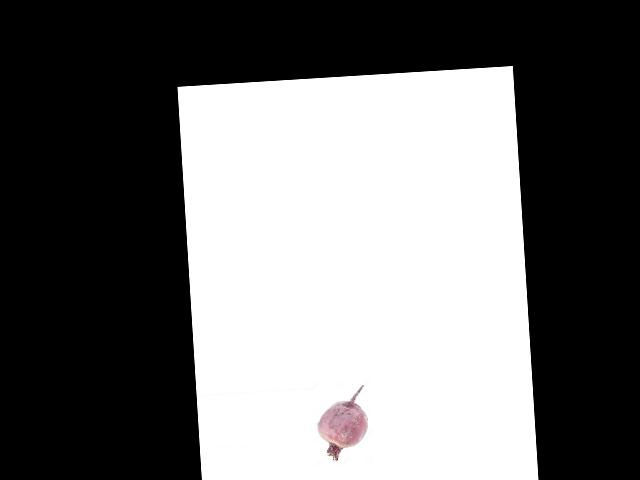beet: (315, 385, 370, 462)
